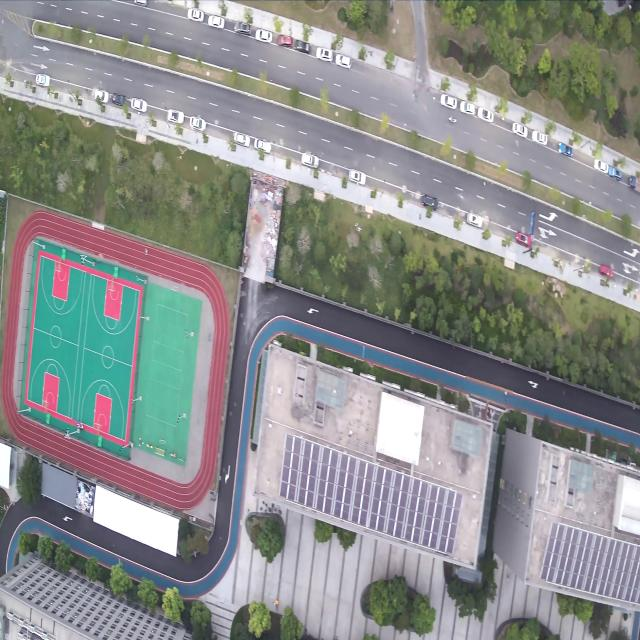drone: (270, 392, 276, 401)
